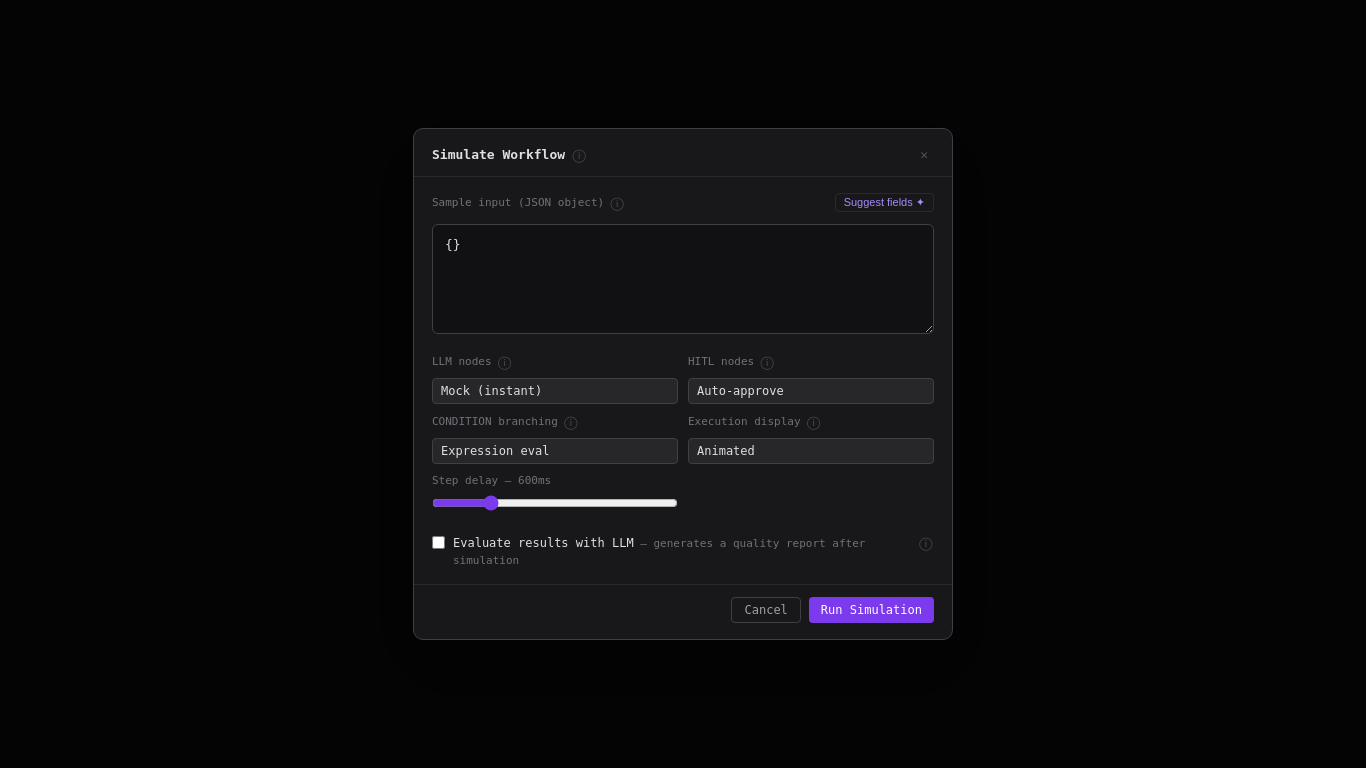
SimulateModal — submission › shows backend unreachable error on network failure
What coordinates should you click on to do the following:
click the button "Run Simulation"
I would click on:
 (871, 610)
Its box is [809,597,934,623].
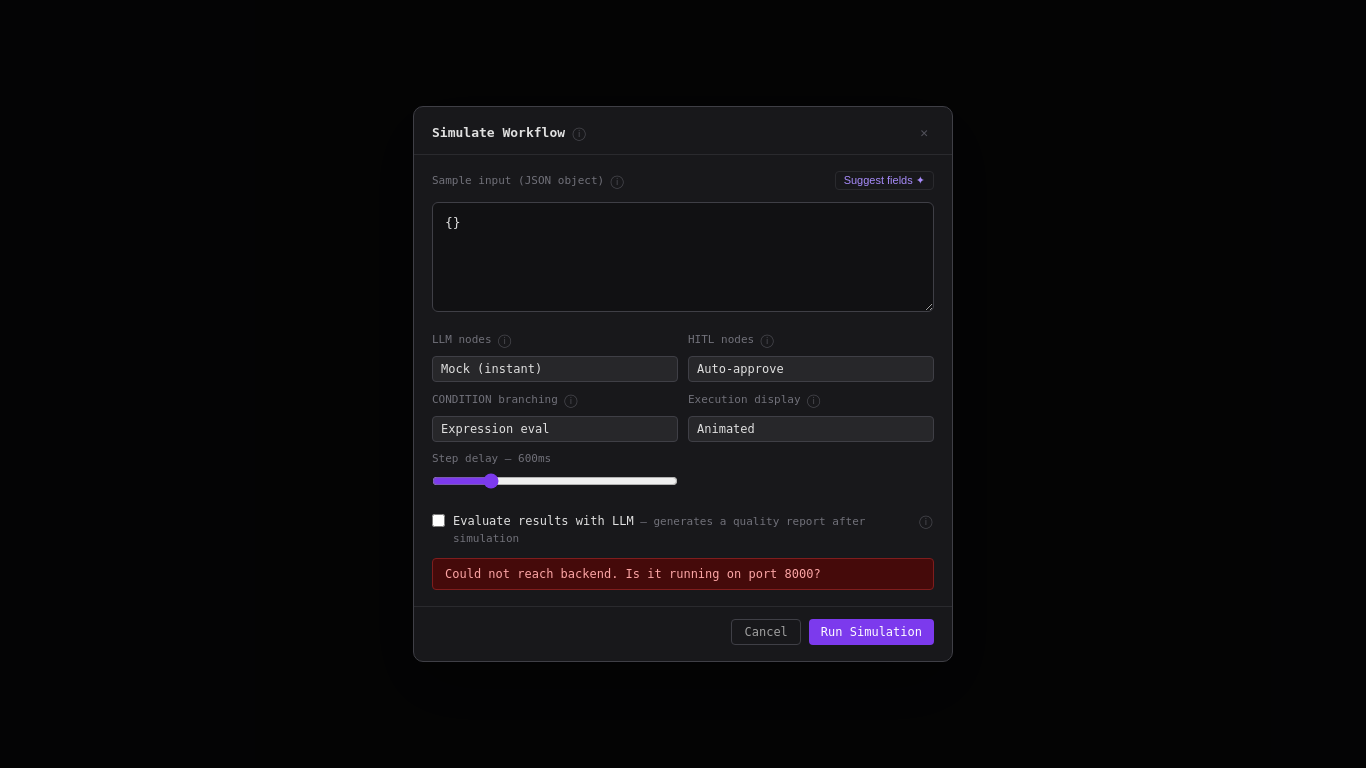
Expected: the text "Could not reach backend. Is it running on port 8000?" is shown, [432,558,934,590]
